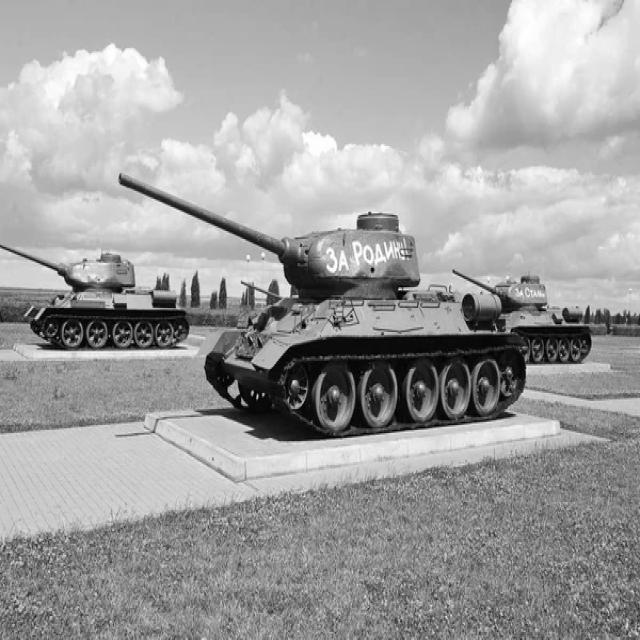Tank: (111, 167, 528, 431), (0, 241, 193, 350), (482, 261, 598, 369)
